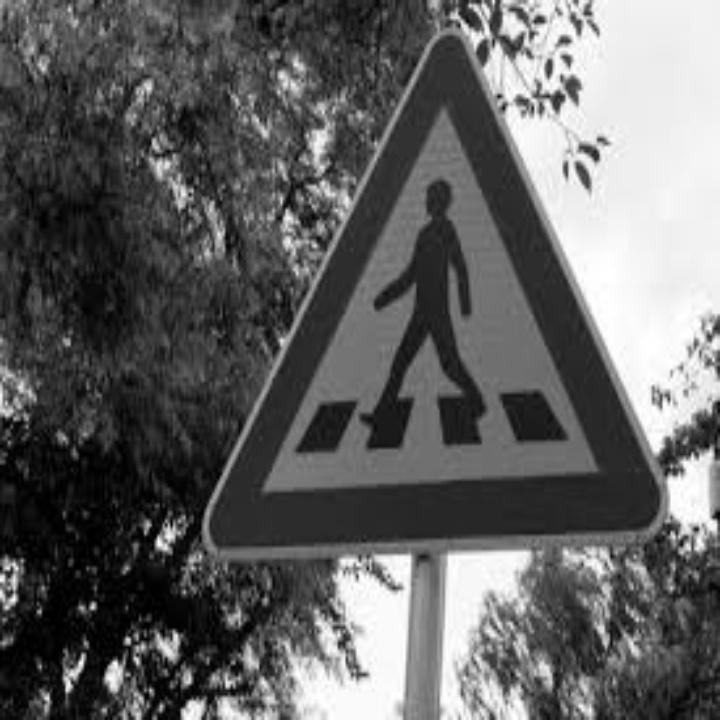cross: (275, 150, 566, 454)
